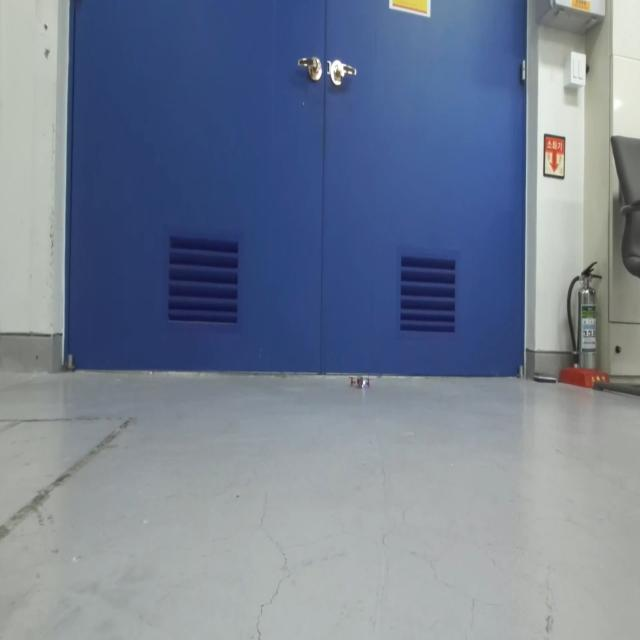crazyflie: (347, 370, 374, 394)
